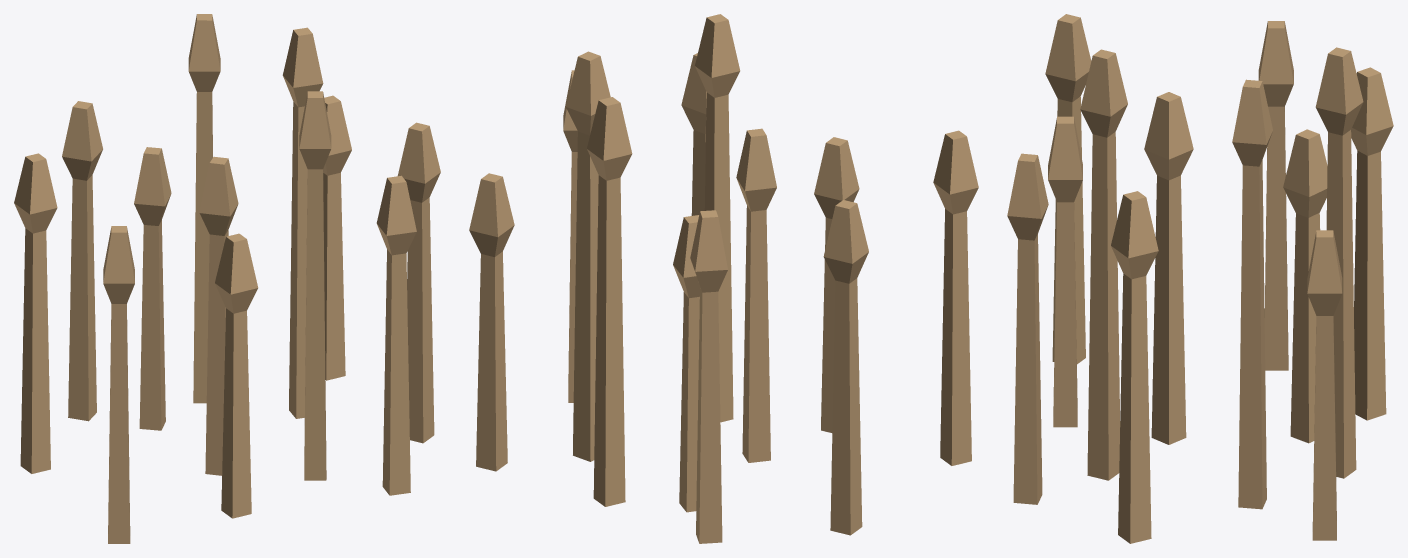
The model's file is crop_wheat.glb.
3 renders of one model, left to right at view 1: azimuth 30°, elevation 25°; view 2: azimuth 150°, elevation 25°; view 3: azimuth 270°, elevation 25°, orthographic. The views are drawn at different scales.
Parts seen in each view (by area): view 1: crops_wheatStageB; view 2: crops_wheatStageB; view 3: crops_wheatStageB.
Boxes of the visible parts, x1,y1,x2,y2 form: crops_wheatStageB: (14, 14, 440, 543); crops_wheatStageB: (469, 14, 978, 543); crops_wheatStageB: (1007, 14, 1393, 543).
Size of the model in its own units: 1.01 by 1 by 0.8351.
